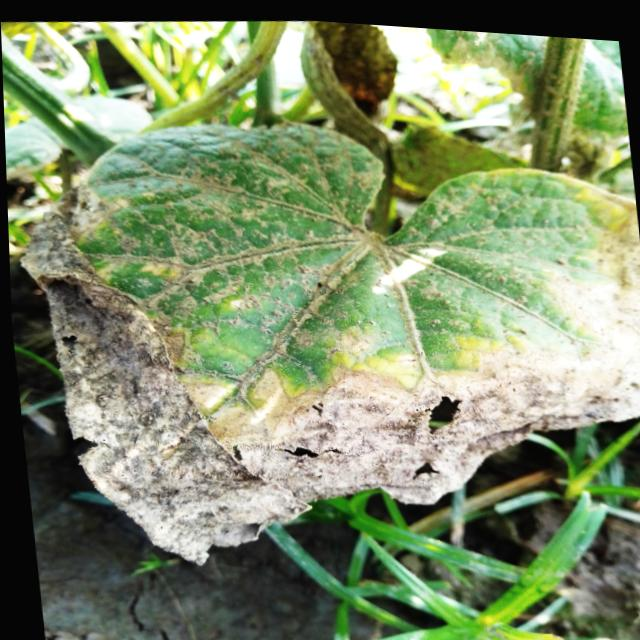Gummy-Stem-Blight: (19, 177, 640, 570)
